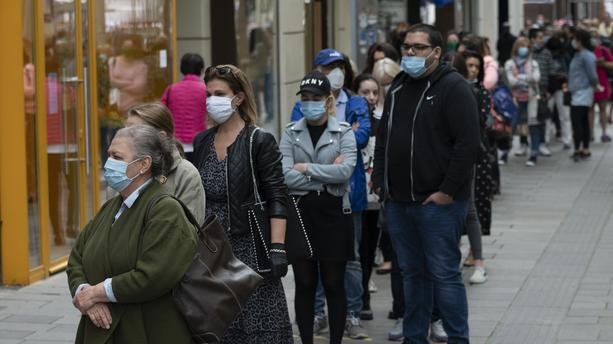with_incorrect_mask: (397, 30, 438, 75)
with_mask: (105, 138, 142, 197), (203, 83, 235, 125), (296, 89, 331, 126), (323, 53, 348, 92)
